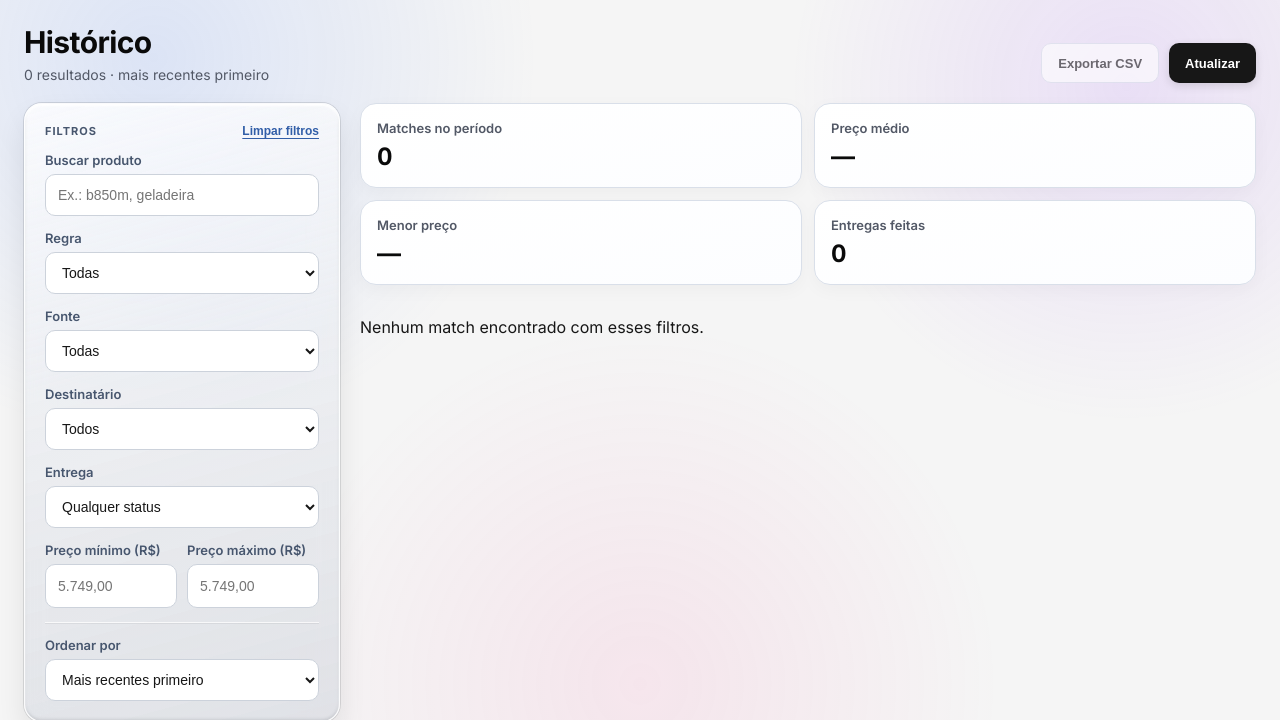
Test: HistoricoPage › shows a pt-BR error under an unparseable price filter, visibly, never silently (S14-13)
expect the text "Nenhum match encontrado com esses filtros." is shown: met, box top-left (360, 317), bottom-right (704, 337)
Step 1. Type "5,749" into the field labelled "Preço mínimo (R$)" → (111, 586), box top-left (45, 564), bottom-right (177, 608)
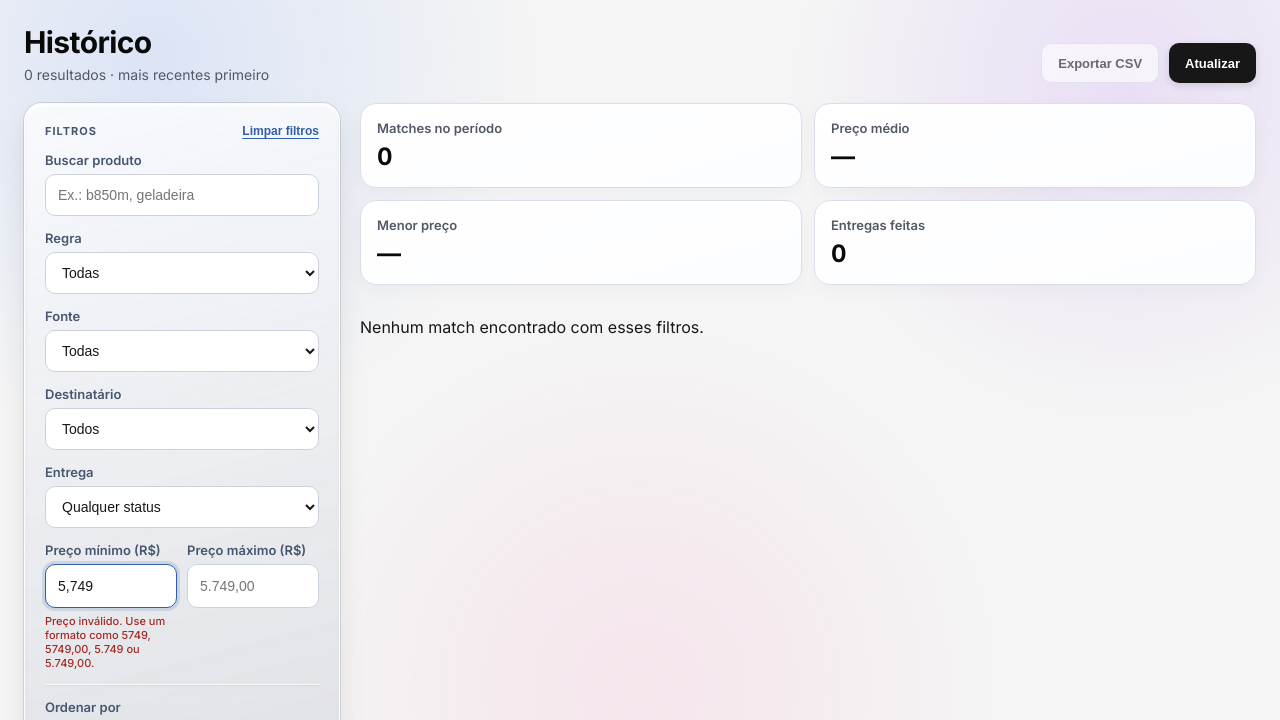
expect the text "Preço inválido. Use um formato como 5749, 5749,00, 5.749 ou 5.749,00." is shown: met, box top-left (45, 614), bottom-right (177, 670)
